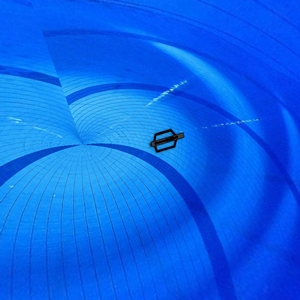submarine: (145, 122, 192, 157)
